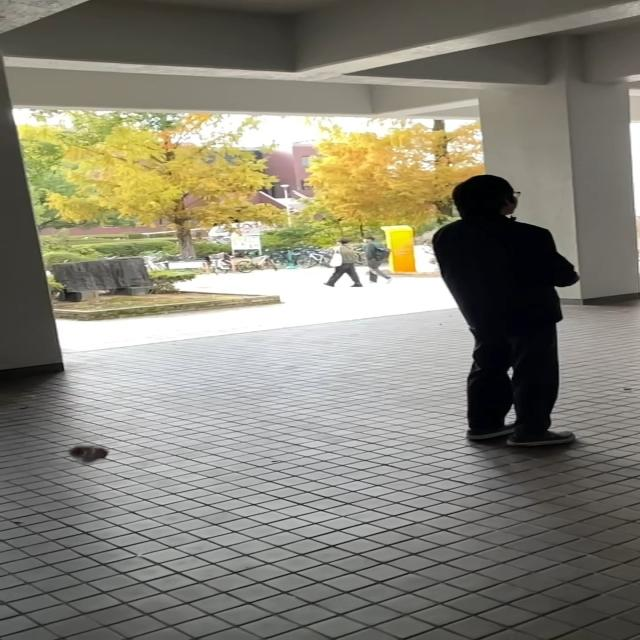paper: (68, 444, 110, 463)
